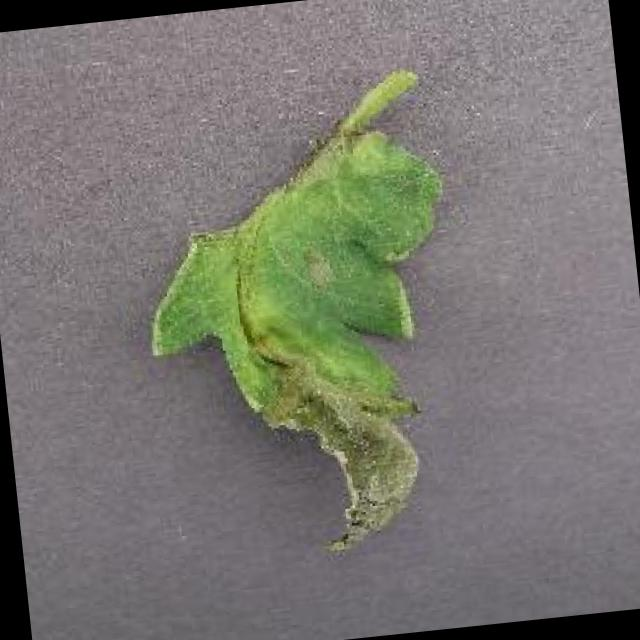Tomato_Late_Blight: (121, 107, 492, 580)
